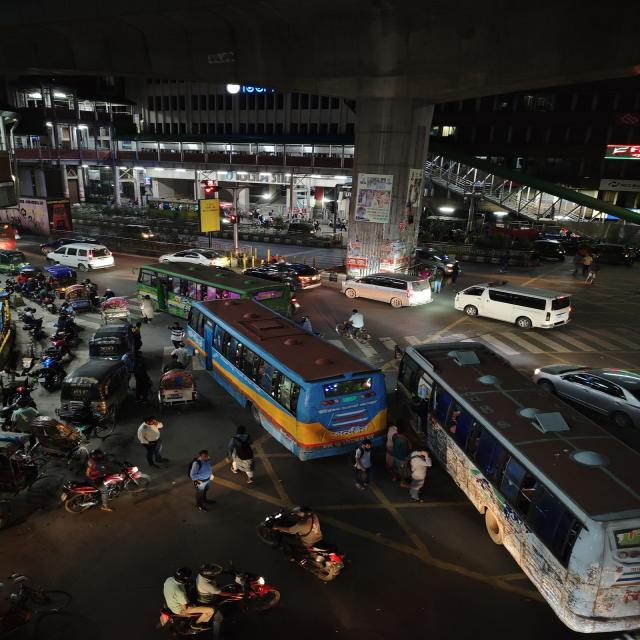bicycle: (329, 308, 375, 347)
bus: (396, 337, 640, 639), (194, 298, 389, 464), (132, 262, 302, 322)
car: (533, 359, 640, 442), (452, 280, 582, 332), (341, 268, 438, 310), (40, 237, 118, 271), (153, 248, 233, 268), (280, 262, 324, 290), (106, 222, 158, 242)
cng: (62, 359, 130, 412), (0, 248, 31, 274), (541, 238, 568, 266)
motorcycle: (150, 558, 269, 640), (261, 503, 348, 586), (59, 450, 131, 516), (33, 329, 78, 366), (17, 306, 46, 336)
pedestrian: (224, 423, 260, 485), (184, 447, 218, 510), (132, 415, 169, 465), (346, 441, 378, 492), (401, 450, 432, 502), (582, 251, 603, 285), (136, 293, 159, 324), (166, 320, 191, 348)
rickshaw: (150, 557, 262, 640), (0, 435, 46, 533), (0, 569, 58, 640), (154, 362, 201, 412), (62, 280, 97, 314), (97, 290, 133, 322)
